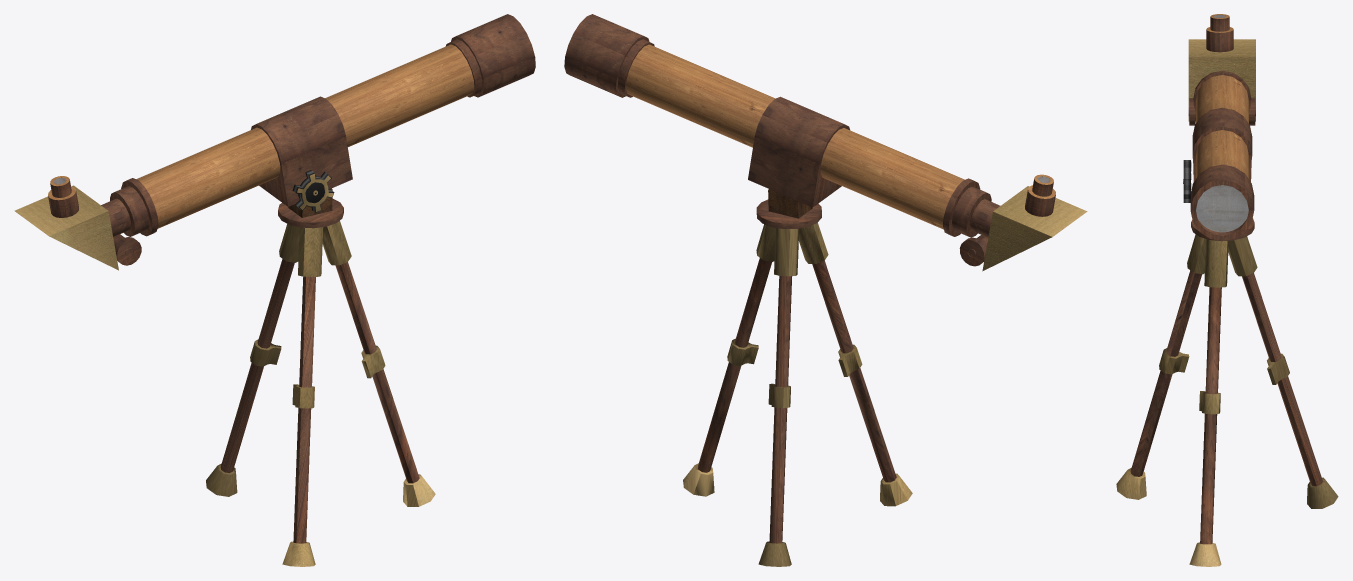
Rendered from telescope.fbx.
3 views of the same model, side by side, from view 1: azimuth 30°, elevation 25°; view 2: azimuth 150°, elevation 25°; view 3: azimuth 270°, elevation 25° (orthographic). The views are drawn at different scales.
Parts seen in each view (by area): view 1: Cylinder, Cylinder.003, Cylinder.005, Circle.001; view 2: Cylinder, Cylinder.003, Circle.001; view 3: Cylinder.003, Cylinder, Cylinder.005.
Boxes of the visible parts, x1,y1,x2,y2 form: Cylinder: [14, 14, 535, 270]; Cylinder.003: [206, 220, 435, 566]; Cylinder.005: [292, 170, 334, 212]; Circle.001: [278, 198, 343, 228]; Cylinder: [564, 14, 1087, 271]; Cylinder.003: [683, 222, 912, 566]; Circle.001: [756, 199, 821, 228]; Cylinder.003: [1116, 234, 1338, 566]; Cylinder: [1188, 14, 1255, 241]; Cylinder.005: [1183, 160, 1191, 202].
Size of the model in its own units: 2419 by 2133 by 981.
Materials: 6 (6 with a texture image).
